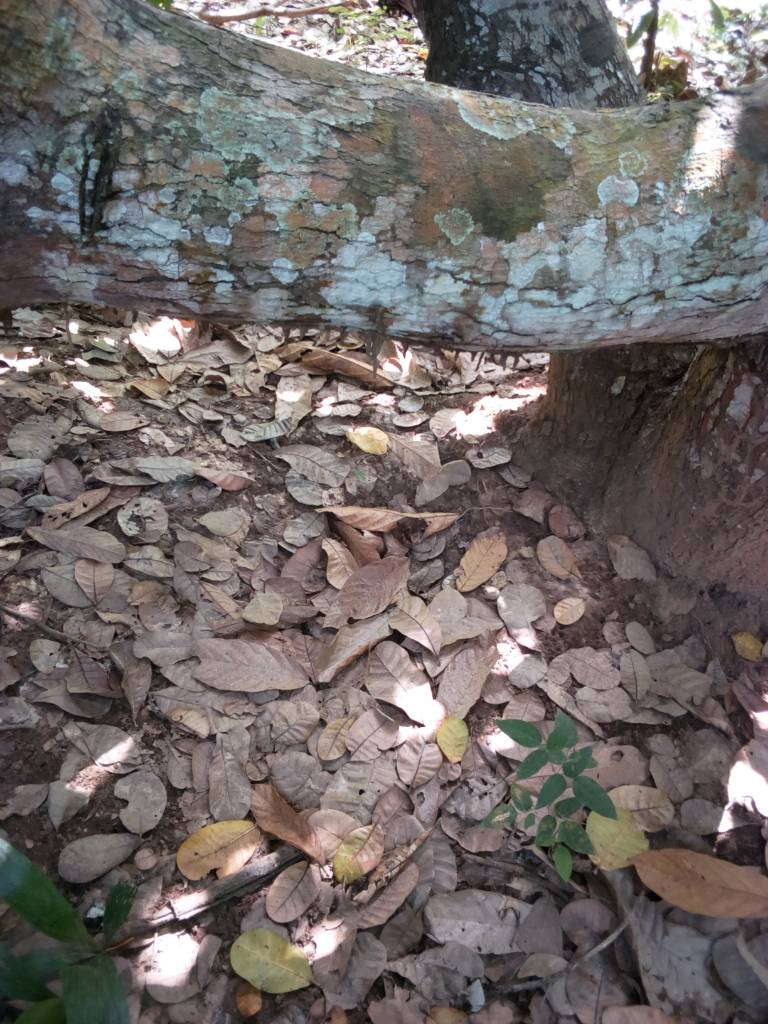Termites: (611, 430, 768, 588)
